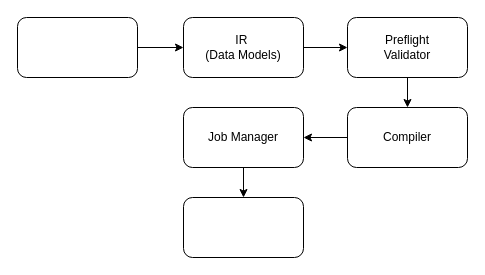
This 485x275 diagram has some shape labels left out. The box of each missing label's shape, as (x1, y1, x2, y2) in pixels:
LLM Planner (stub): (16, 16, 138, 78)
Simulator: (182, 196, 304, 258)
